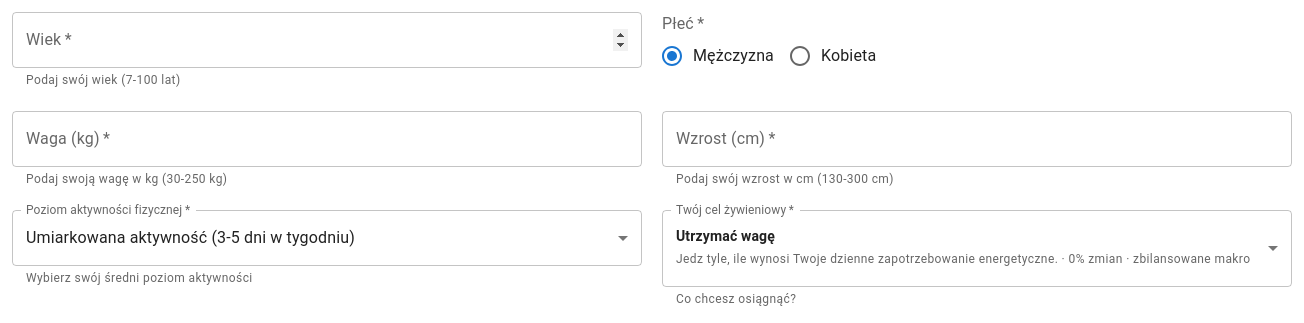
Test: UserMeasurementsForm › shows inline validation when weight is out of range
This screenshot has width=1304, height=323.
Step 1. Type "10" into the number field labelled "Waga (kg) *" → (327, 139), box [12,111,642,167]
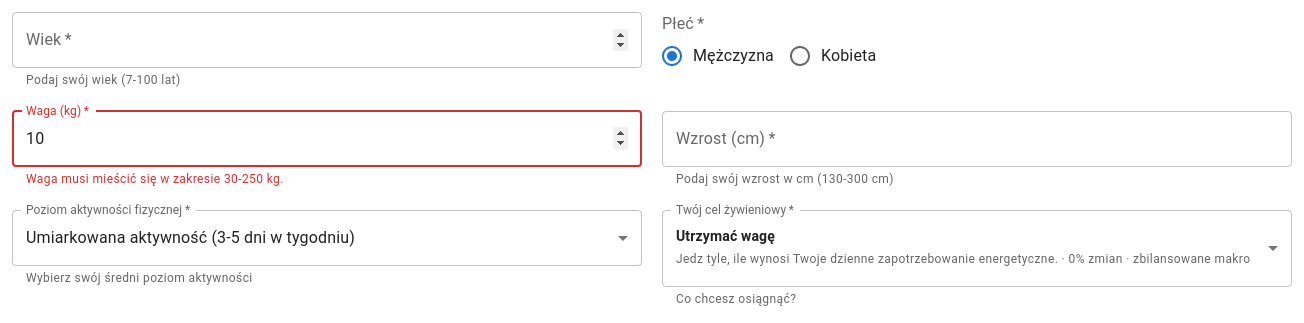
Expected: the text "Waga musi mieścić się w zakresie 30-250 kg." is shown, [26,172,284,186]
